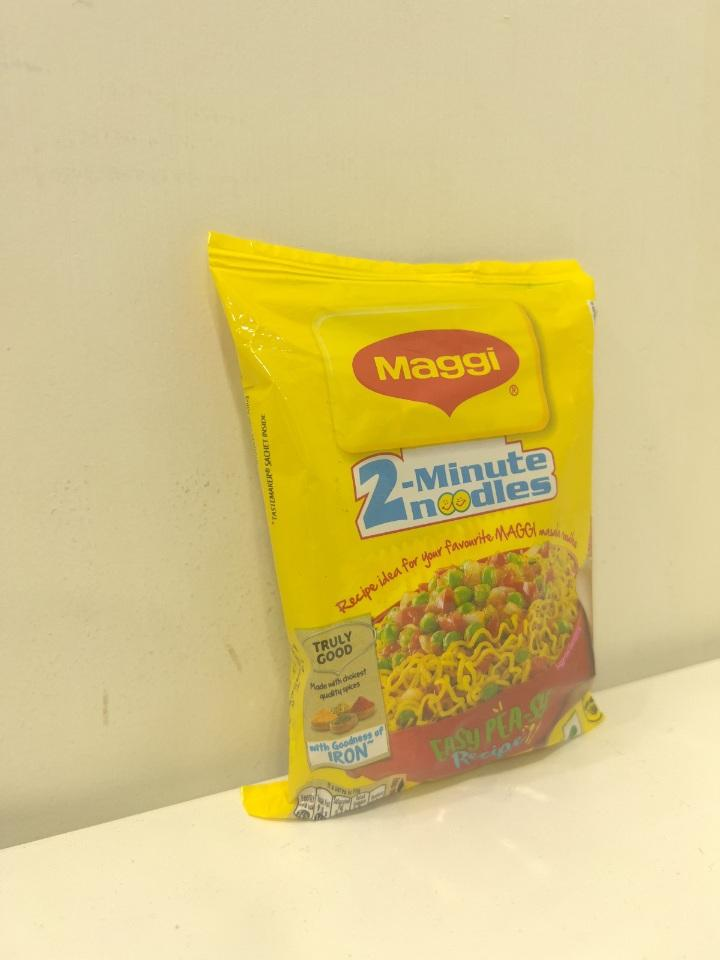Maggi: (217, 228, 625, 829)
